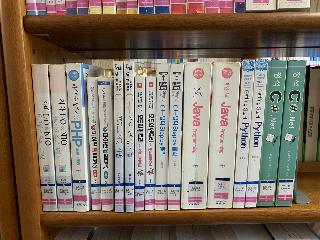book-spine: (205, 61, 240, 210), (275, 58, 306, 207), (180, 62, 211, 210), (257, 59, 287, 208), (31, 63, 58, 212), (49, 63, 74, 212), (65, 62, 89, 212), (244, 58, 268, 208), (232, 59, 255, 209), (167, 64, 184, 211), (155, 64, 170, 210), (98, 77, 113, 211), (87, 77, 101, 210), (144, 76, 156, 210), (113, 61, 123, 212), (124, 61, 134, 212), (134, 76, 145, 211)
